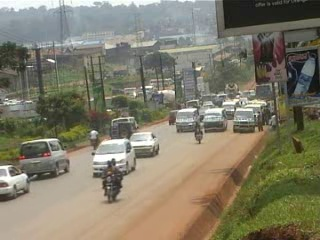Car: (88, 134, 139, 179), (0, 160, 33, 202), (123, 128, 161, 160), (165, 106, 180, 127), (194, 106, 211, 119)
Motorcycle: (102, 158, 126, 202), (84, 127, 101, 152), (190, 120, 204, 146)
